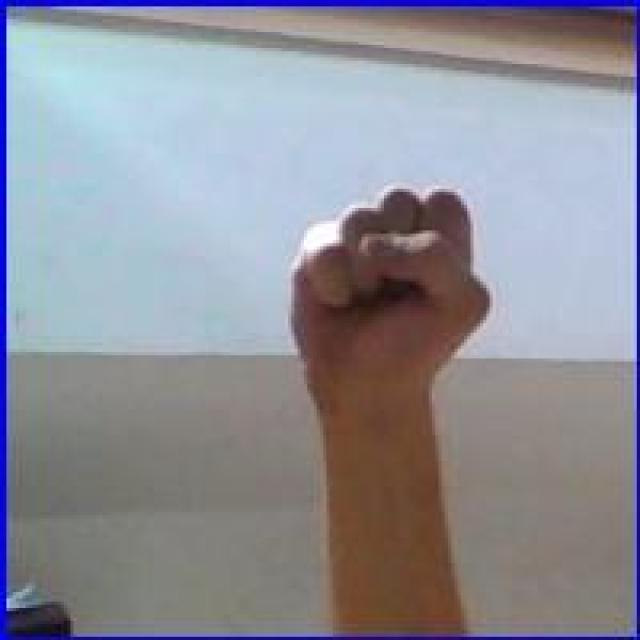S: (282, 178, 499, 404)
